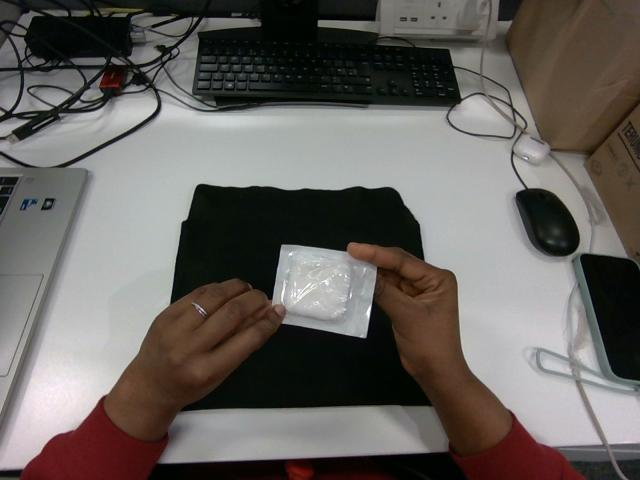gauze: (273, 245, 375, 337)
